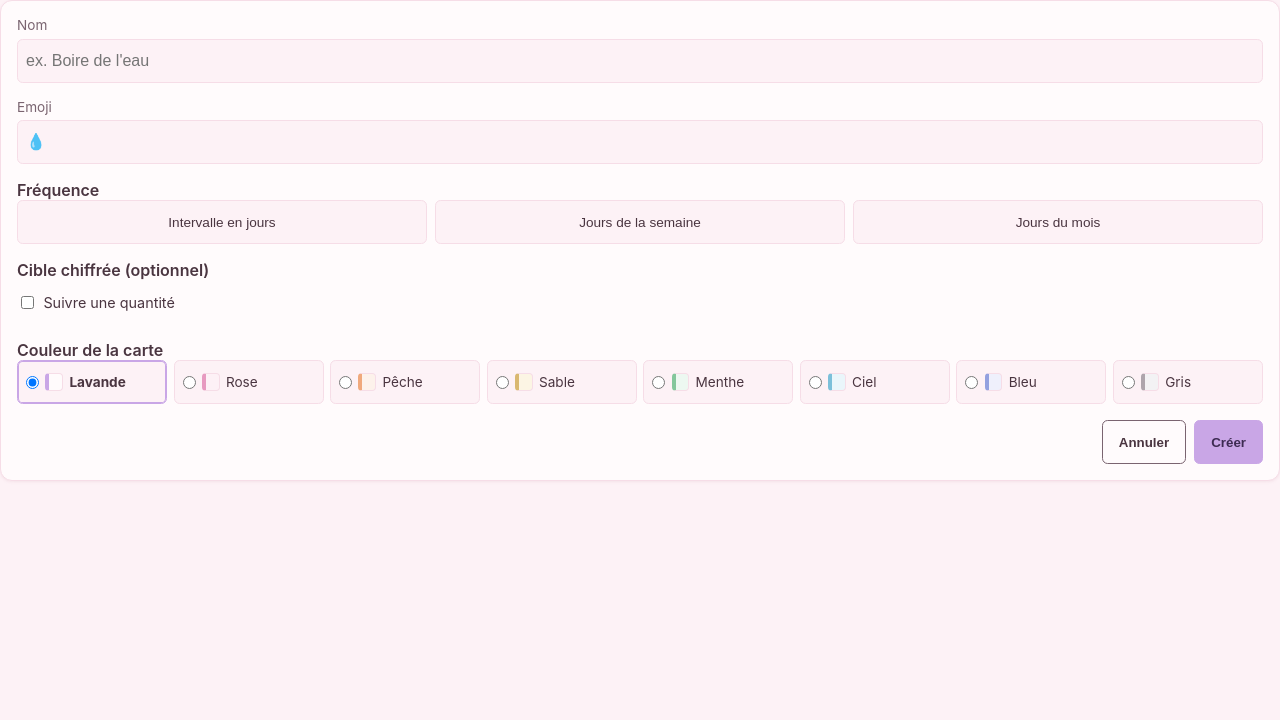
Test: HabitForm — fréquence « jours du mois » (US-032) › scénario 4 — basculer vers « jours du mois » réinitialise les autres modes, et réciproquement
Click the button "Jours de la semaine" at x=640, y=222, box [435,200,845,244]
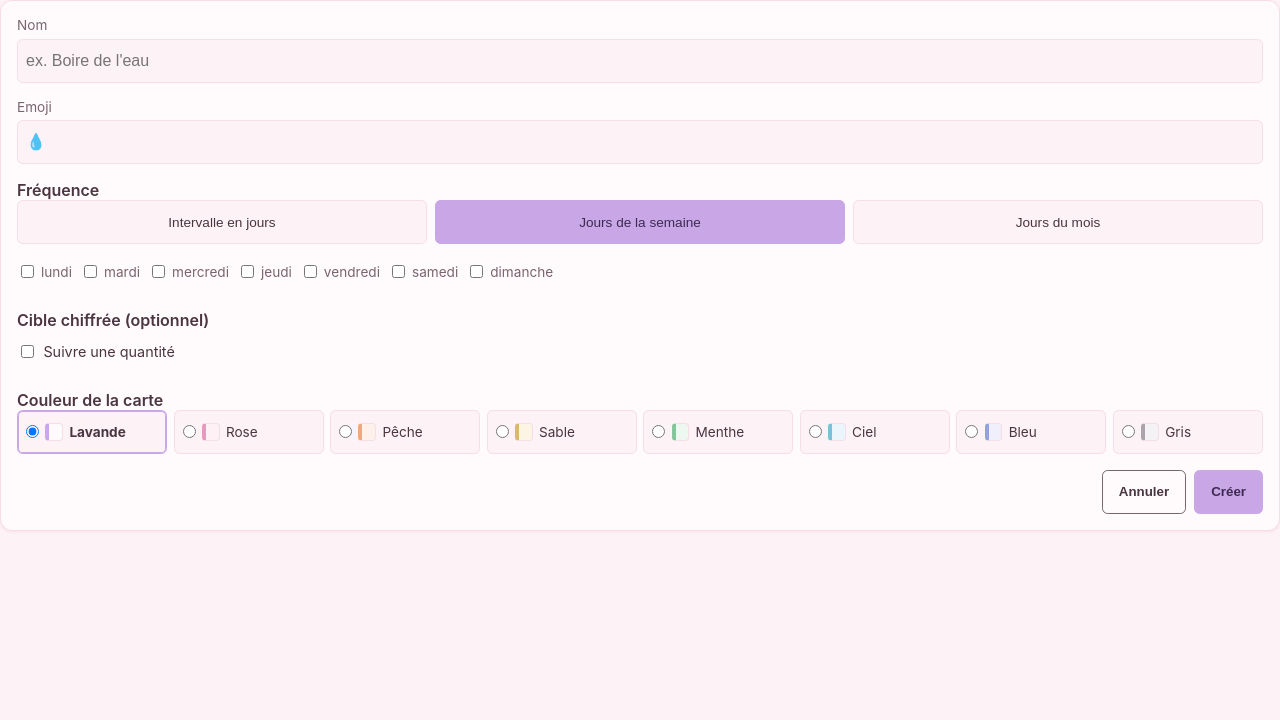
Click the checkbox labelled "lundi" at x=28, y=272, box [21,265,34,278]
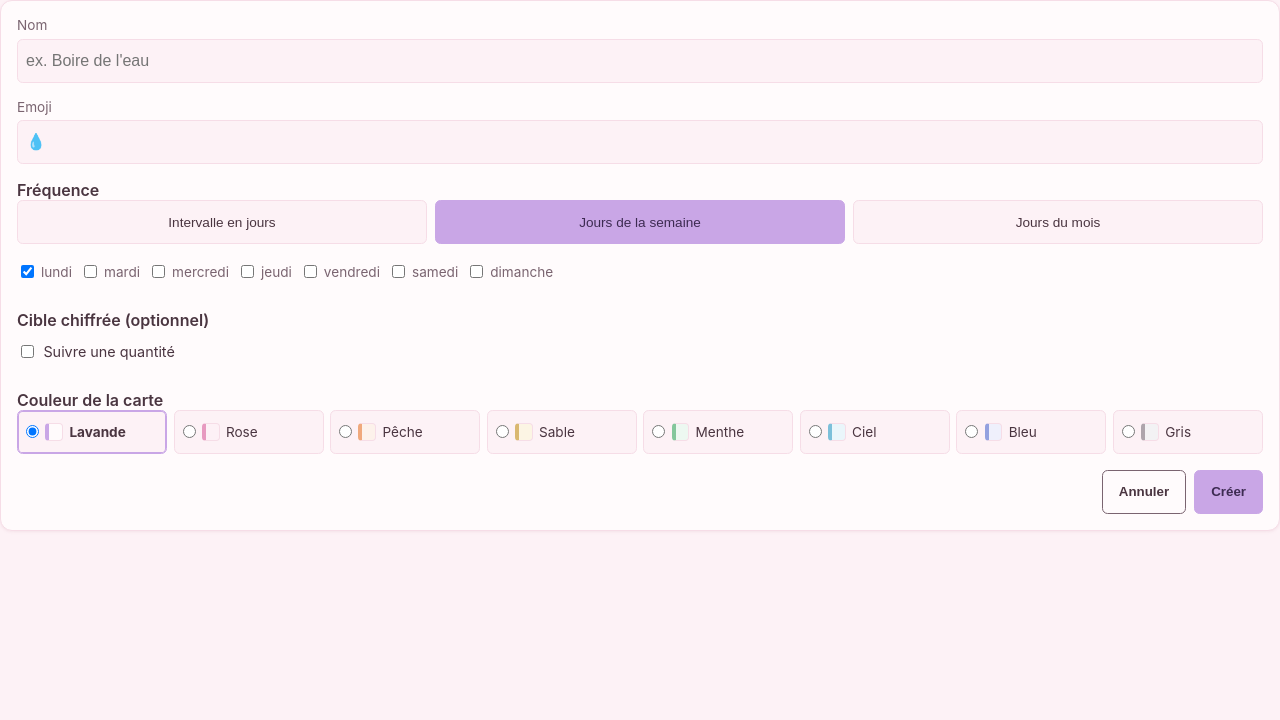
Click the button "Jours du mois" at x=1058, y=222, box [853,200,1263,244]
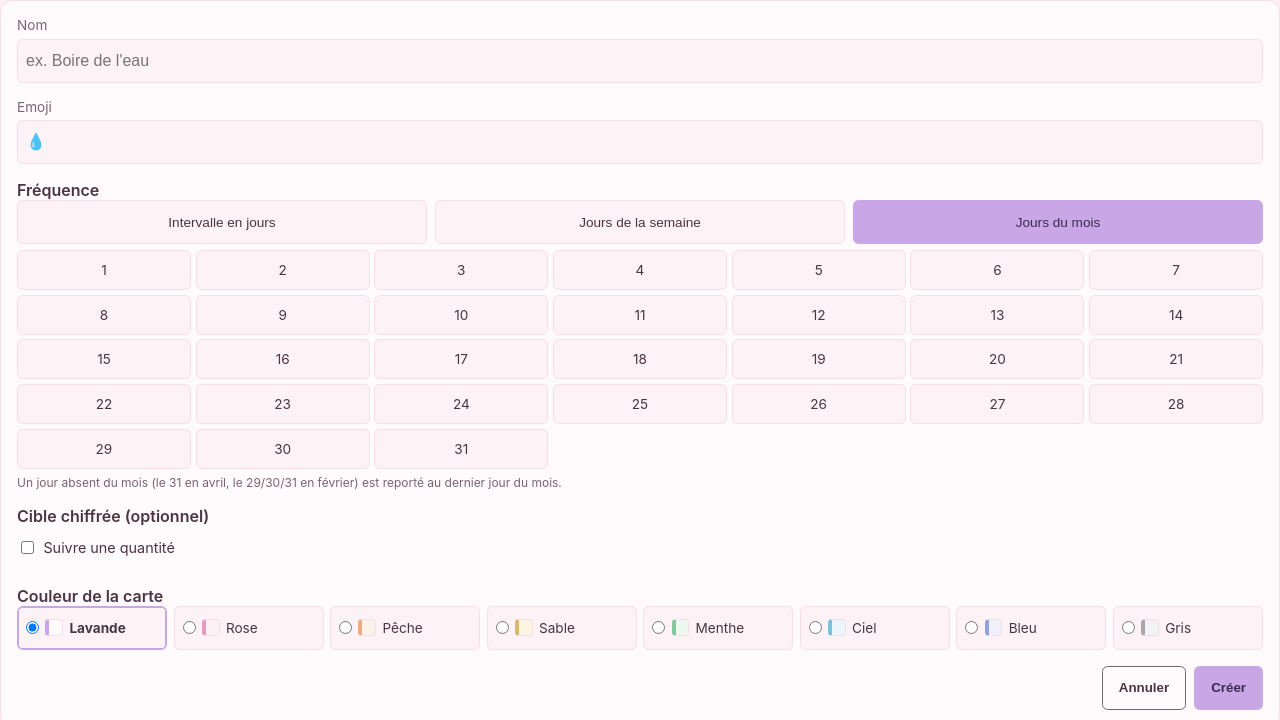
Expected: the label labelled "lundi" is gone
Click the checkbox named "15 du mois" at x=104, y=359, box [17,339,191,379]
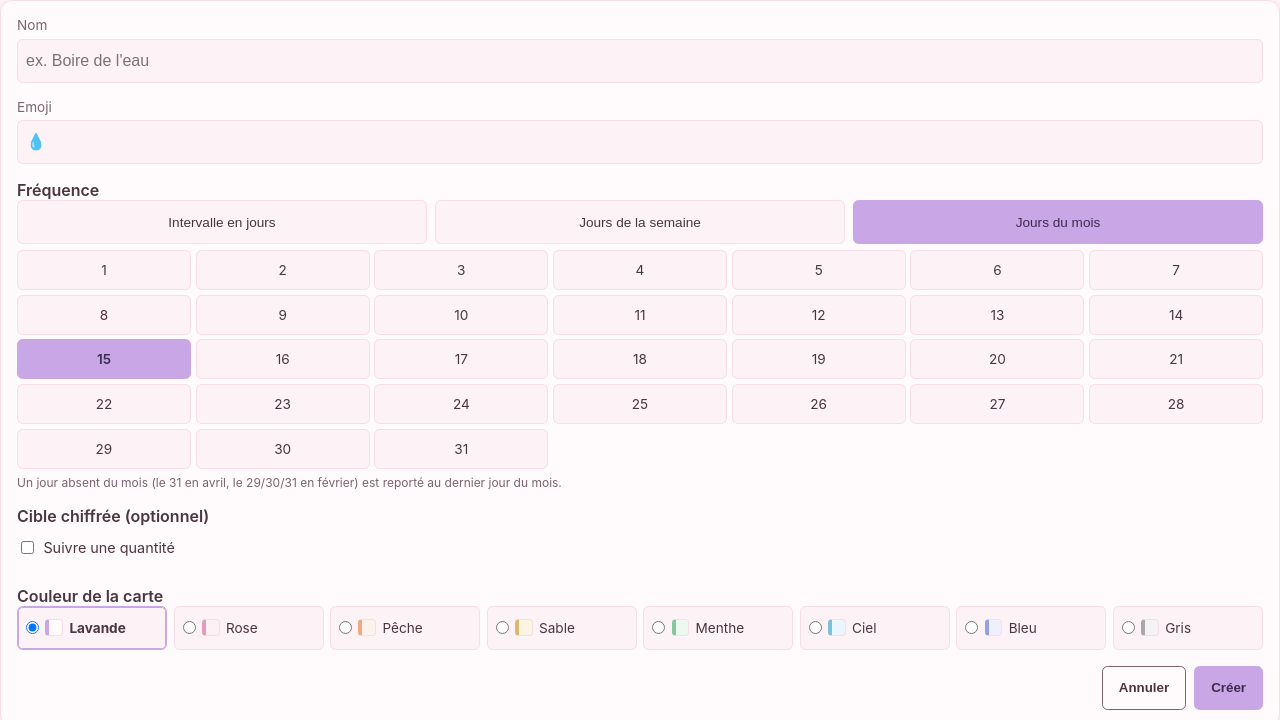
Click the button "Jours de la semaine" at x=640, y=222, box [435,200,845,244]
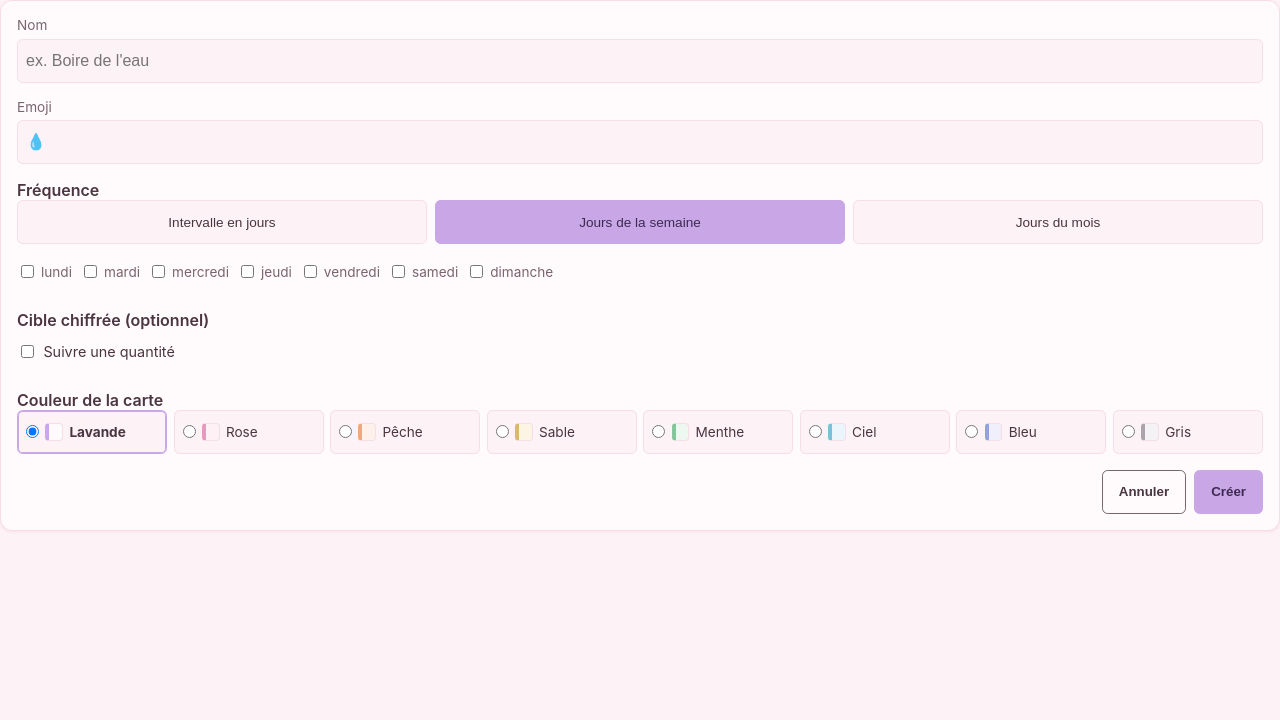
Retour au mode « jours du mois » : la sélection précédente a bien été réinitialisée.
Click the button "Jours du mois" at x=1058, y=222, box [853,200,1263,244]
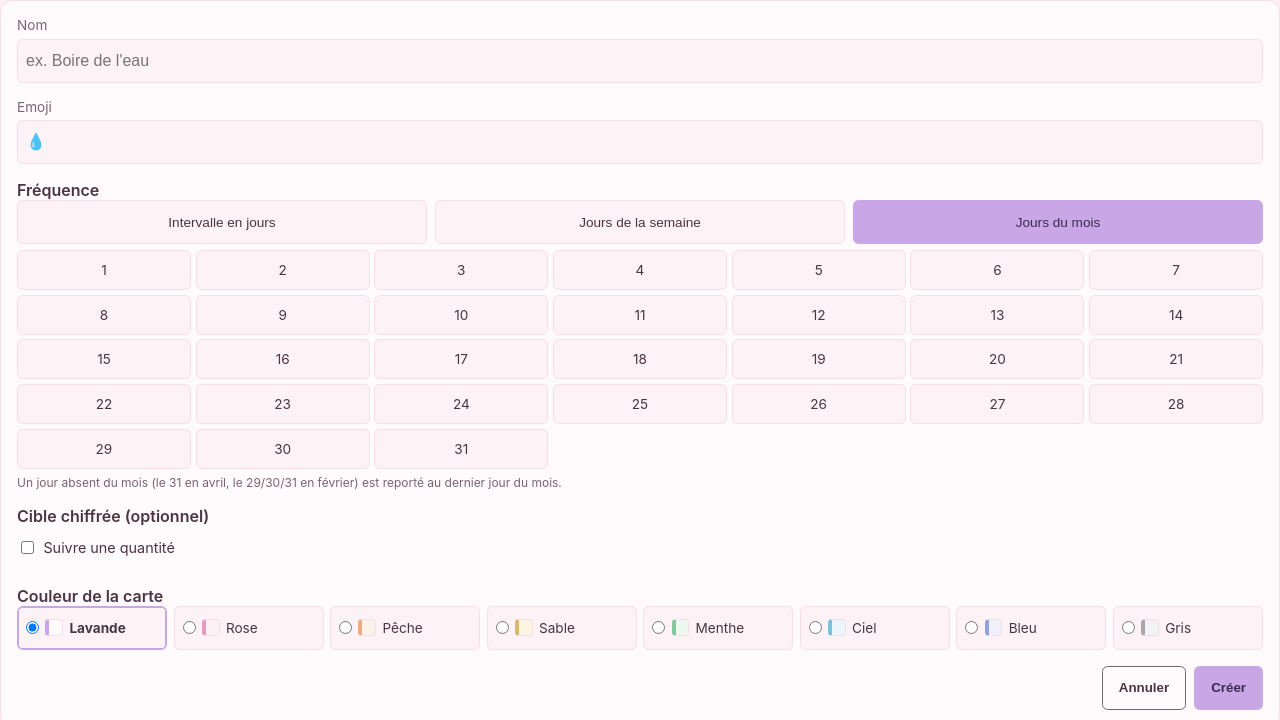
Expected: the checkbox named "15 du mois" is not checked, [17,339,191,379]
